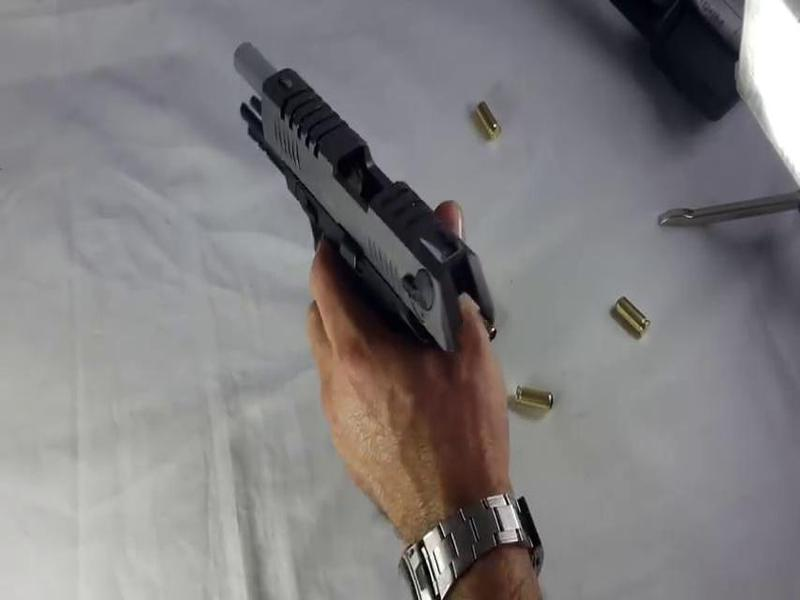Pistola: (179, 21, 508, 387)
